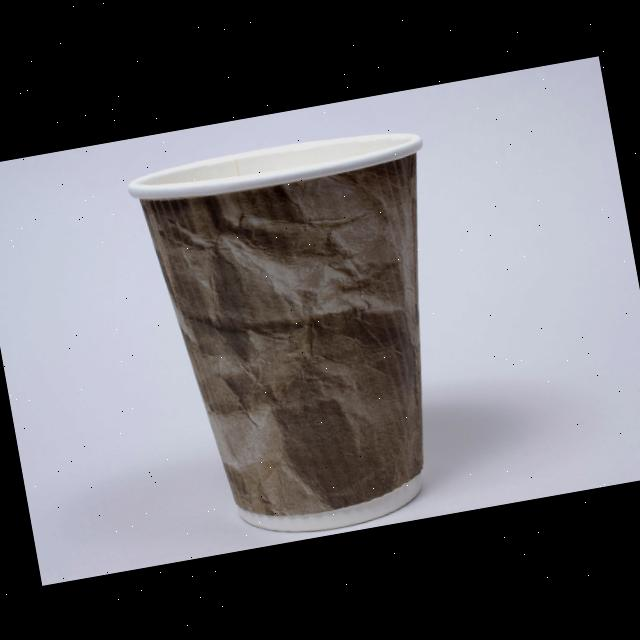trash: (123, 120, 484, 556)
